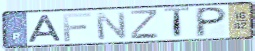A: (25, 14, 64, 44)
F: (61, 12, 94, 43)
N: (93, 11, 129, 41)
P: (193, 6, 229, 39)
T: (163, 6, 192, 40)
Z: (130, 8, 160, 40)
